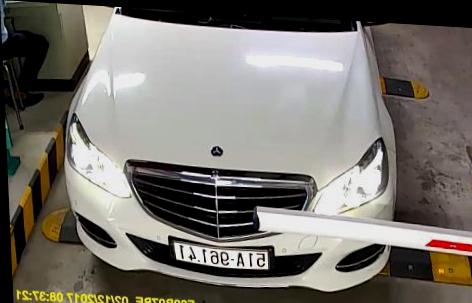License_Plate: (168, 235, 269, 271)
